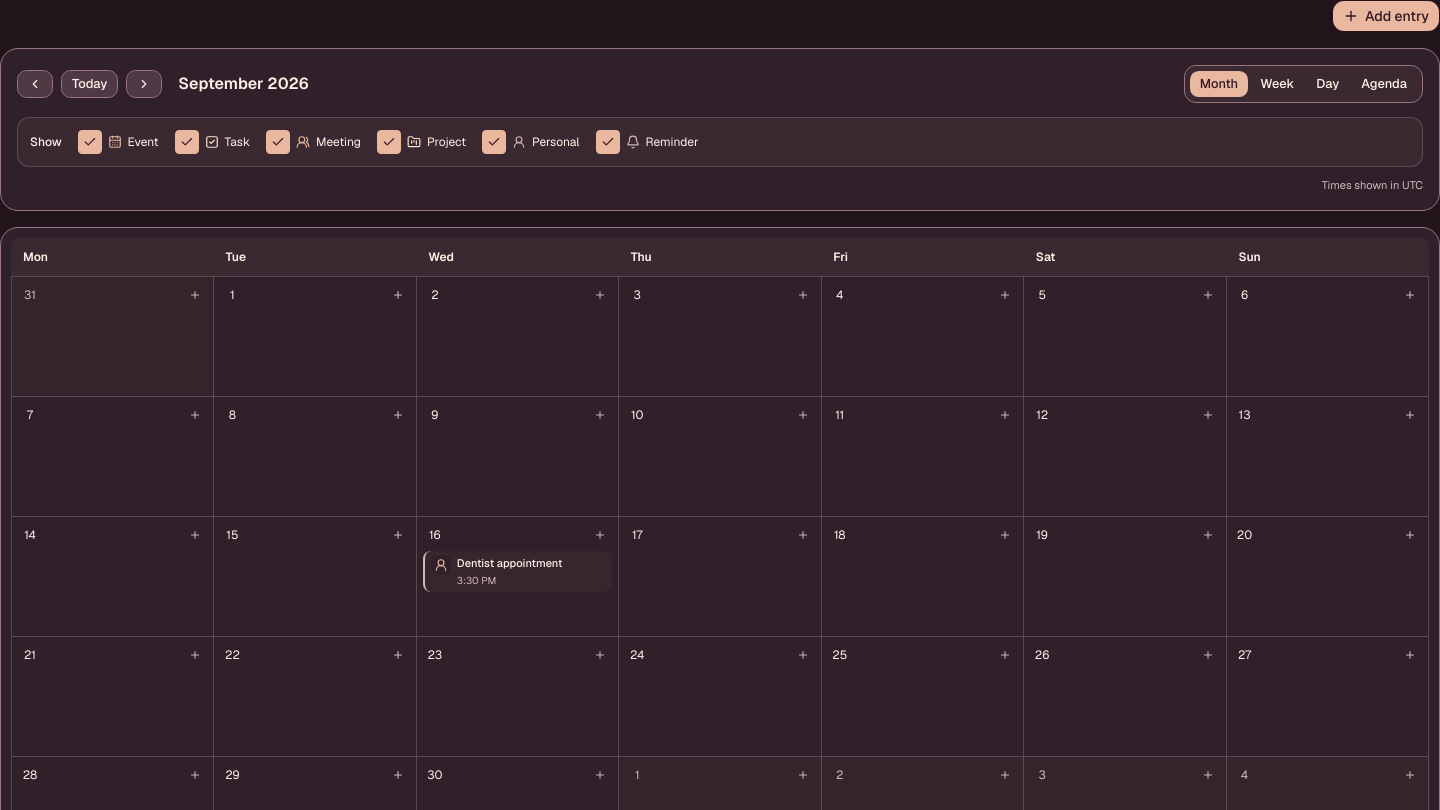
Test case: CalendarManager › deletes a mutable entry through the real API
Click the text "Dentist appointment".
click(510, 562)  # box x1=457 y1=556 x2=562 y2=570
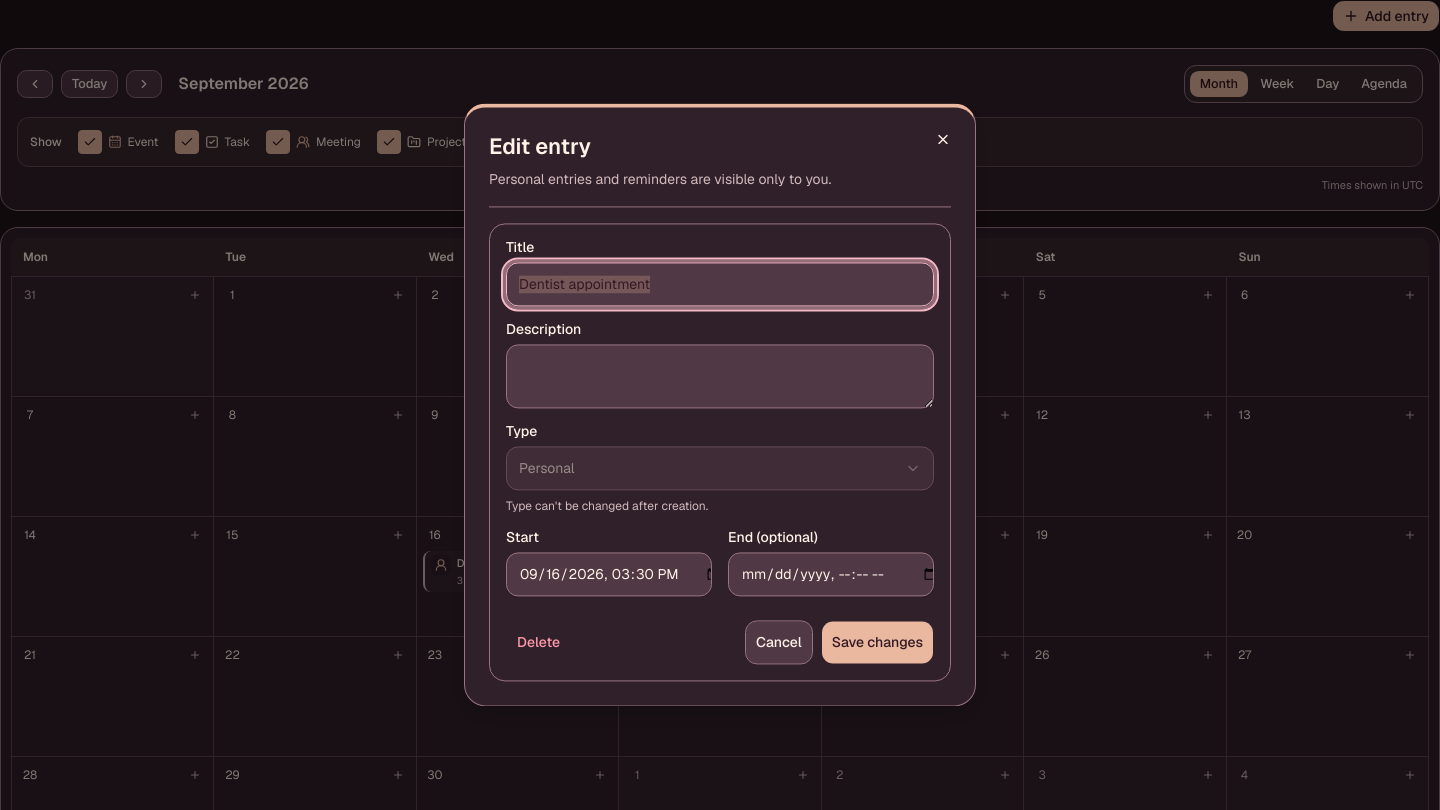
Click the button "Delete".
click(539, 643)  # box x1=506 y1=621 x2=571 y2=665
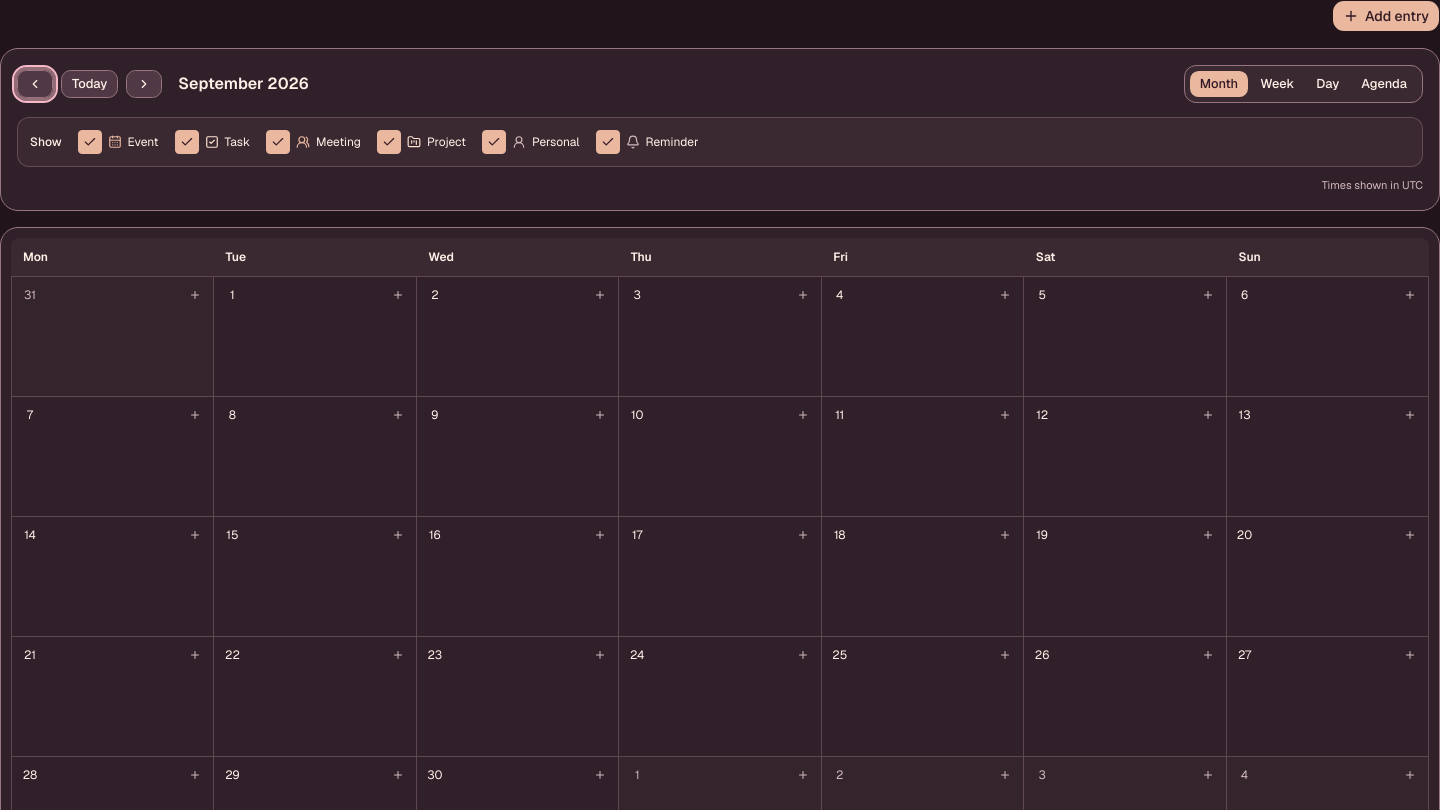
Expected: the button "Dentist appointment" is gone
